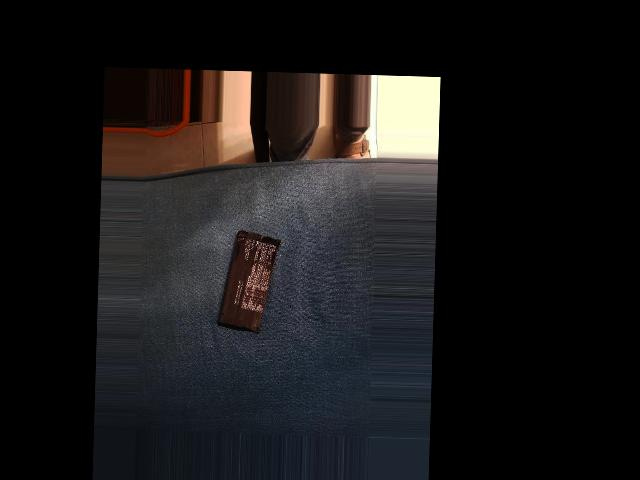chocolate: (215, 227, 289, 334)
